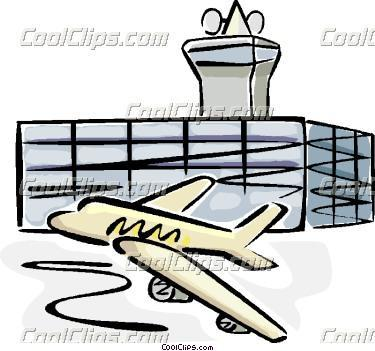aeroplane: (42, 174, 301, 344)
